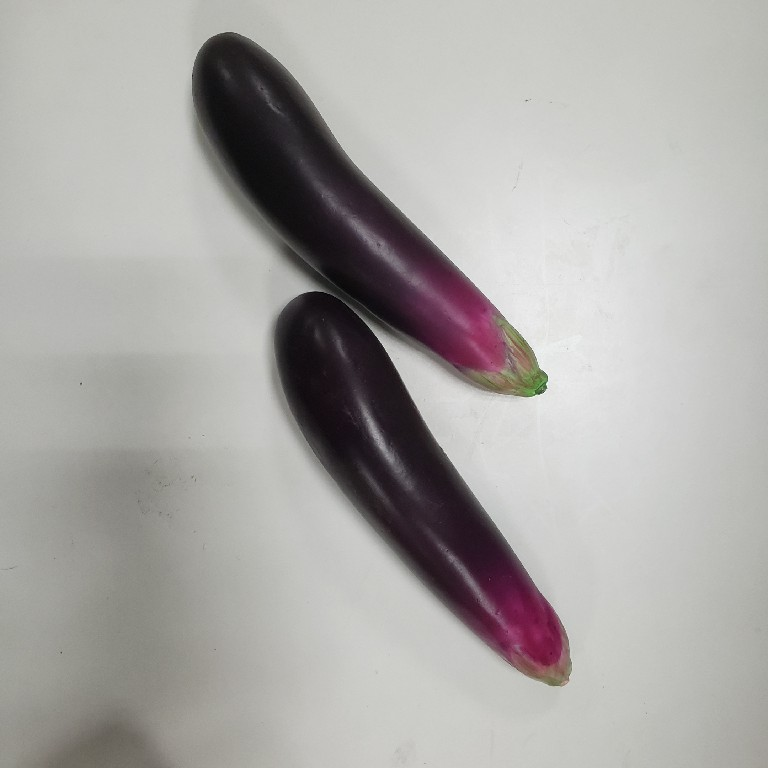fruit_eggplant: (186, 29, 552, 399), (269, 285, 578, 695)
